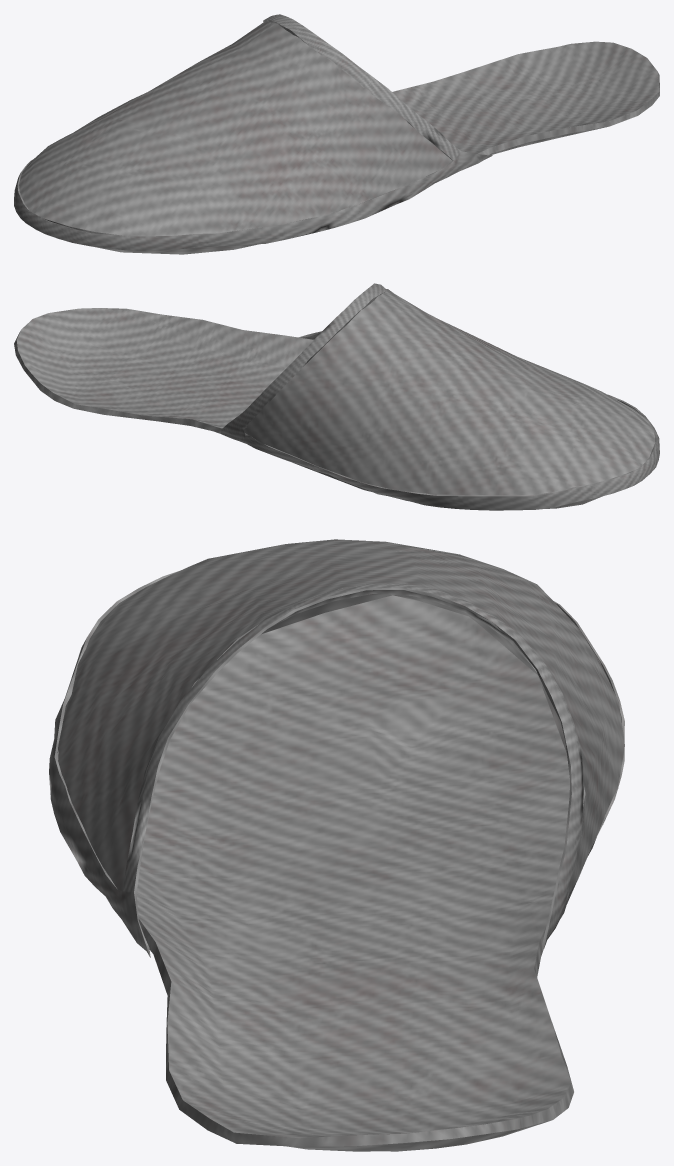
File: SM_Shoes_A1.fbx
3 views of the same model, one above another, from view 1: azimuth 30°, elevation 25°; view 2: azimuth 150°, elevation 25°; view 3: azimuth 270°, elevation 25° (orthographic). The views are drawn at different scales.
Parts seen in each view (by area): view 1: SM_Shoes_A1; view 2: SM_Shoes_A1; view 3: SM_Shoes_A1.
Part boxes in pixels (x1=…): SM_Shoes_A1: x1=14, y1=14, x2=659, y2=254; SM_Shoes_A1: x1=14, y1=283, x2=659, y2=510; SM_Shoes_A1: x1=49, y1=539, x2=624, y2=1151.
Size of the model in its own units: 27.02 by 11.02 by 6.32.
Materials: 1 (1 with a texture image).
